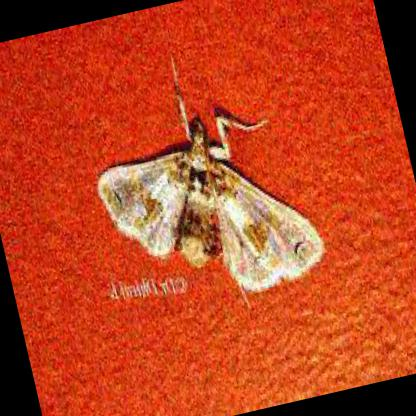leucinodes: (96, 84, 323, 293)
